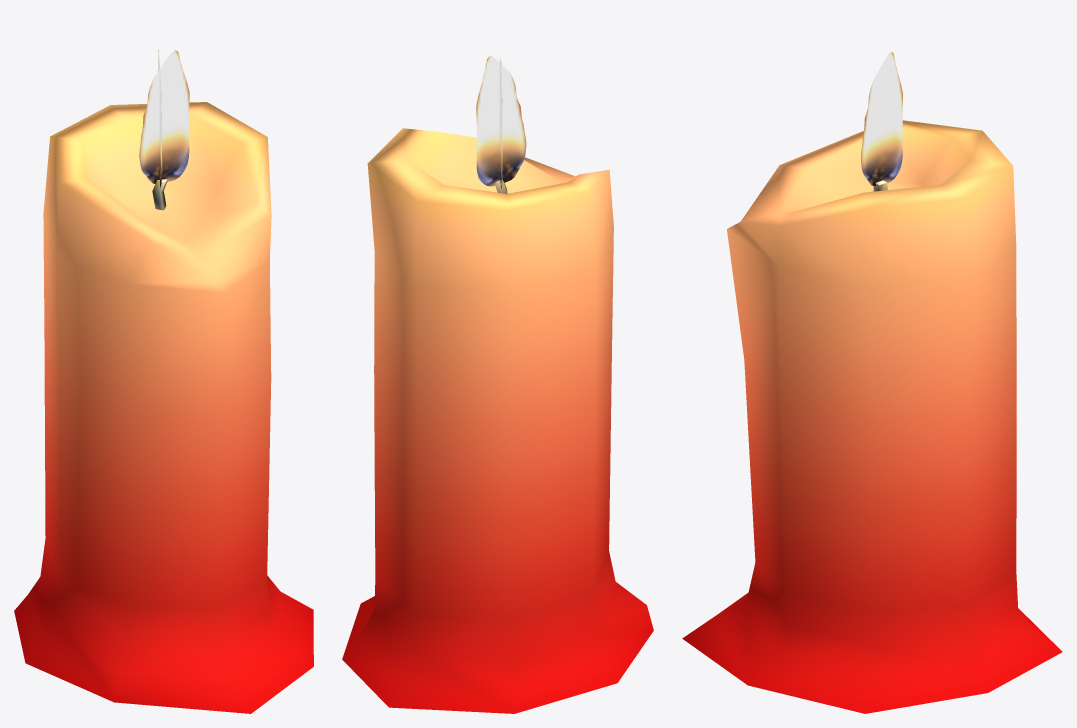
The model's file is CandleShapeB.016.glb.
3 views of the same model, side by side, from view 1: azimuth 30°, elevation 25°; view 2: azimuth 150°, elevation 25°; view 3: azimuth 270°, elevation 25° (orthographic).
Parts seen in each view (by area): view 1: CandleShapeB.016; view 2: CandleShapeB.016; view 3: CandleShapeB.016.
Boxes of the visible parts, x1=… form: CandleShapeB.016: x1=14, y1=49, x2=313, y2=713; CandleShapeB.016: x1=342, y1=56, x2=653, y2=713; CandleShapeB.016: x1=682, y1=52, x2=1062, y2=713.
Size of the model in its own units: 0.0966 by 0.2031 by 0.117.
Materials: 2 (2 with a texture image).
